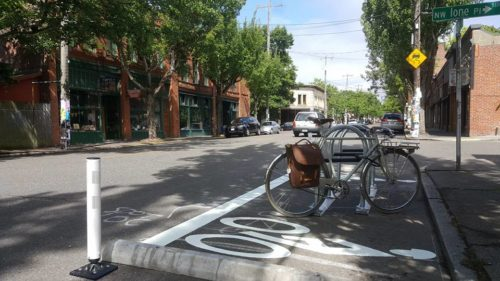bike: (262, 108, 437, 215)
